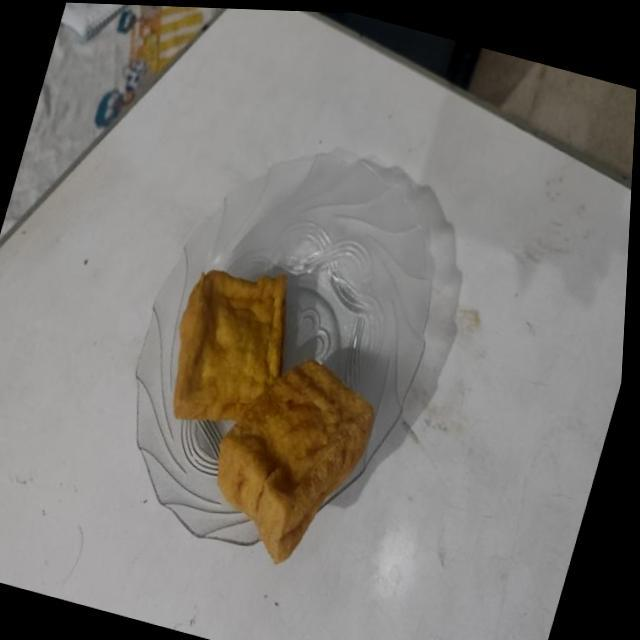tahu_goreng: (218, 360, 374, 563), (173, 270, 286, 420)
